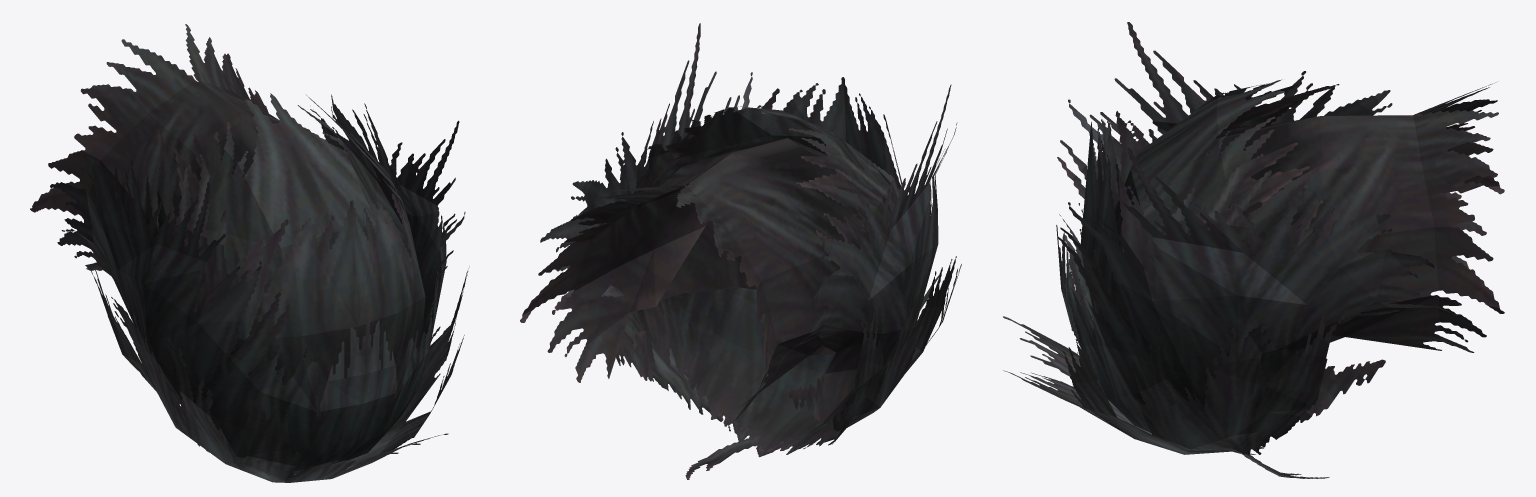
File: common_hair_male_2027.obj
3 views of the same model, side by side, from view 1: azimuth 30°, elevation 25°; view 2: azimuth 150°, elevation 25°; view 3: azimuth 270°, elevation 25° (orthographic). The views are drawn at different scales.
Parts seen in each view (by area): view 1: common_hair_male_2027; view 2: common_hair_male_2027; view 3: common_hair_male_2027.
Part boxes in pixels (x1,y1,x2,y2): common_hair_male_2027: (30,24,469,482); common_hair_male_2027: (520,23,961,479); common_hair_male_2027: (1003,22,1504,478).
Size of the model in its own units: 11.08 by 12.1 by 15.04.
1 material, 1 textured.
